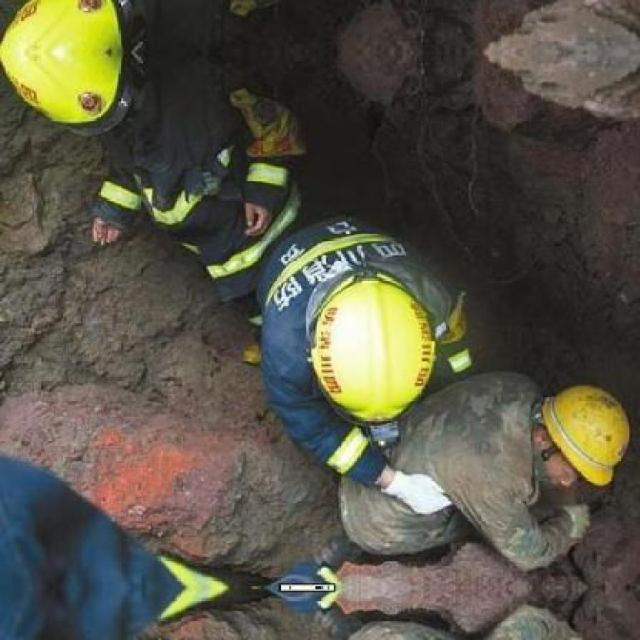helmet: (310, 264, 438, 424), (2, 52, 152, 136), (536, 384, 633, 487), (1, 0, 154, 51)
